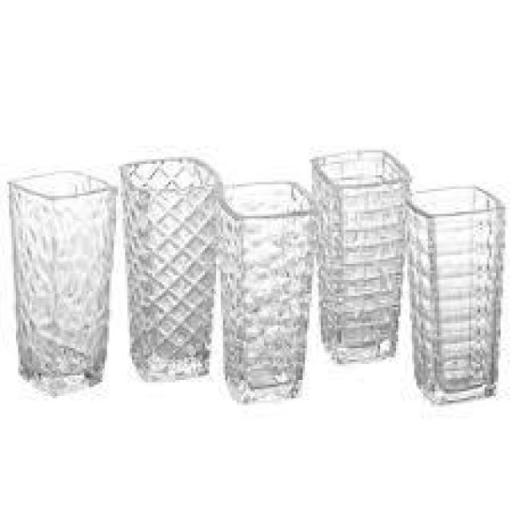glass: (9, 174, 114, 390), (122, 159, 224, 379), (220, 185, 318, 400), (312, 154, 410, 359), (408, 190, 504, 399)
